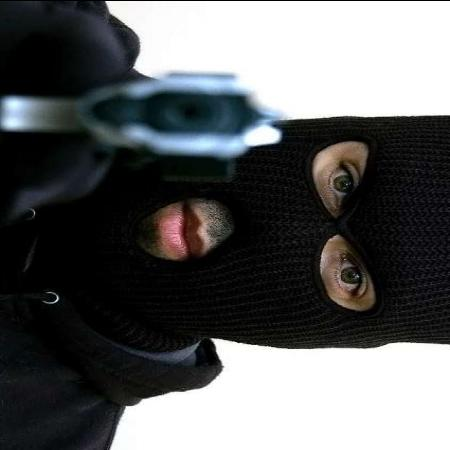Pistol: (2, 76, 293, 154)
